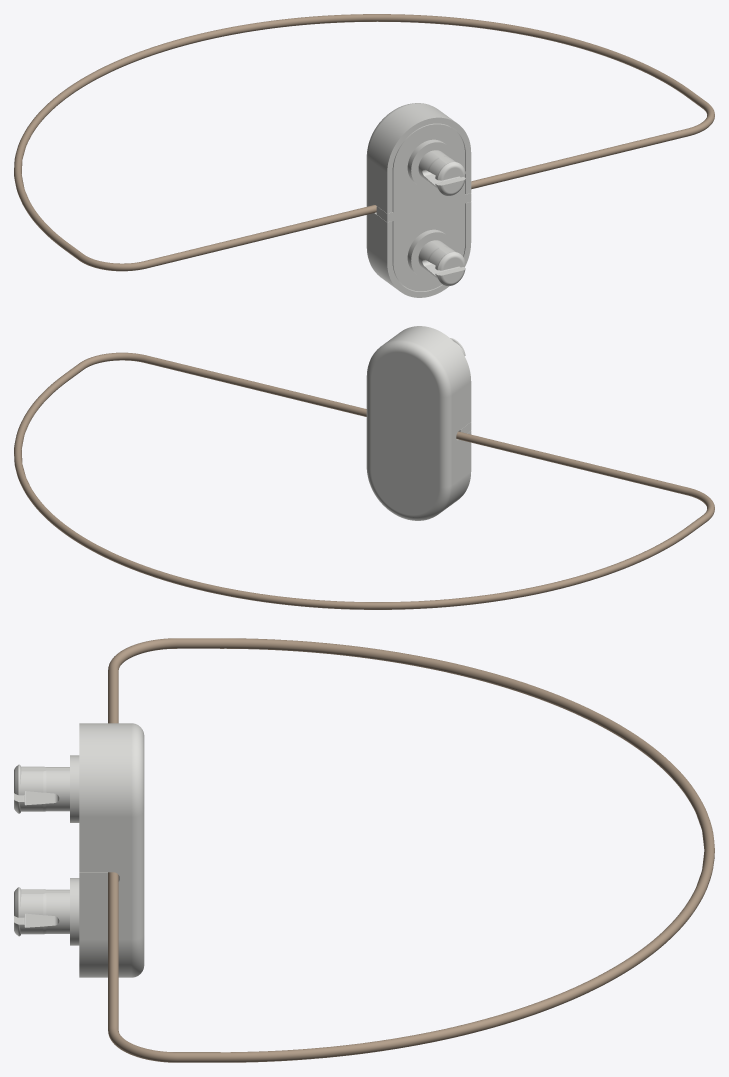
3 renders of one model, top to bottom at view 1: azimuth 30°, elevation 25°; view 2: azimuth 150°, elevation 25°; view 3: azimuth 270°, elevation 25°, orthographic. The views are drawn at different scales.
Visible parts, largest first — view 1: NAUO1, NAUO2, NAUO3; view 2: NAUO3, NAUO1; view 3: NAUO1, NAUO3, NAUO2.
Part boxes in pixels (x1,y1,x2,y2): NAUO1: (14,14,714,271); NAUO2: (376,123,471,291); NAUO3: (366,103,471,297); NAUO3: (366,326,471,520); NAUO1: (14,352,714,609); NAUO1: (108,638,714,1062); NAUO3: (79,723,144,977); NAUO2: (14,755,107,945).
Size of the model in its own units: 0.093 by 0.0251 by 0.0658.
